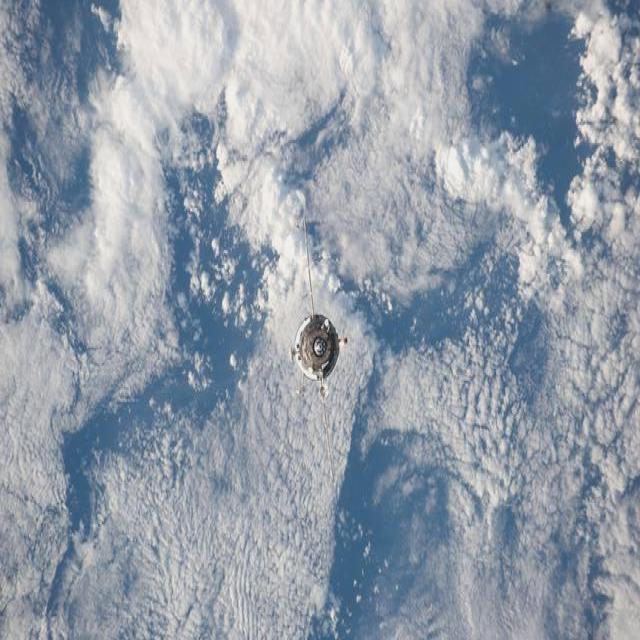satellite: (280, 216, 362, 506)
